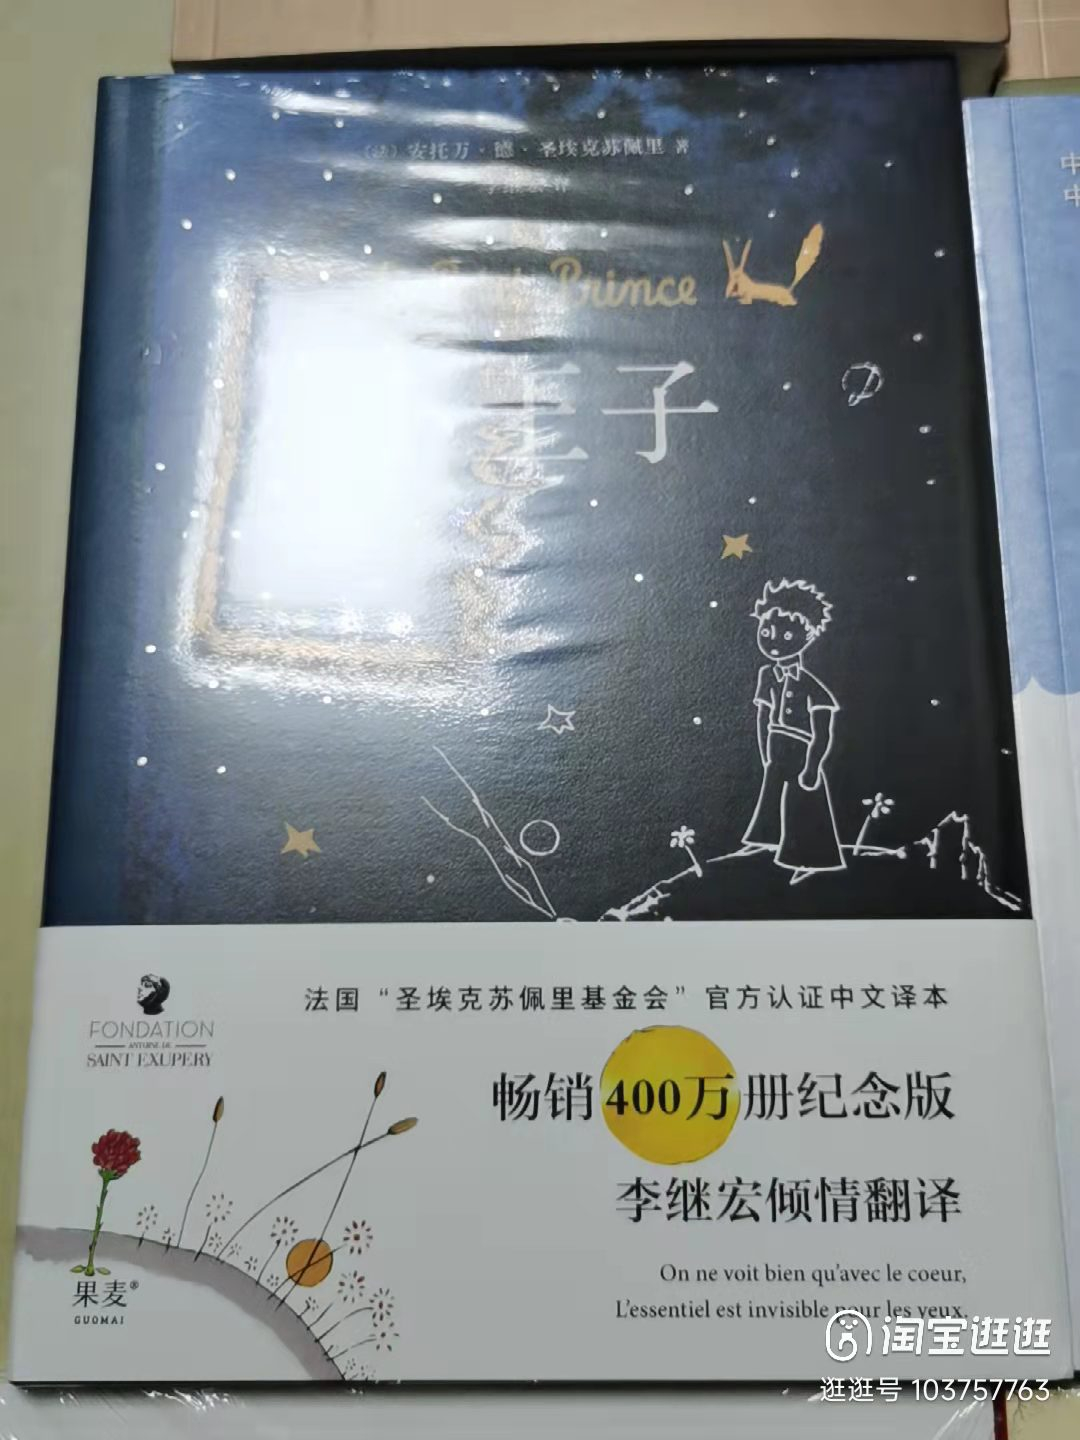book: (9, 51, 1080, 1399)
